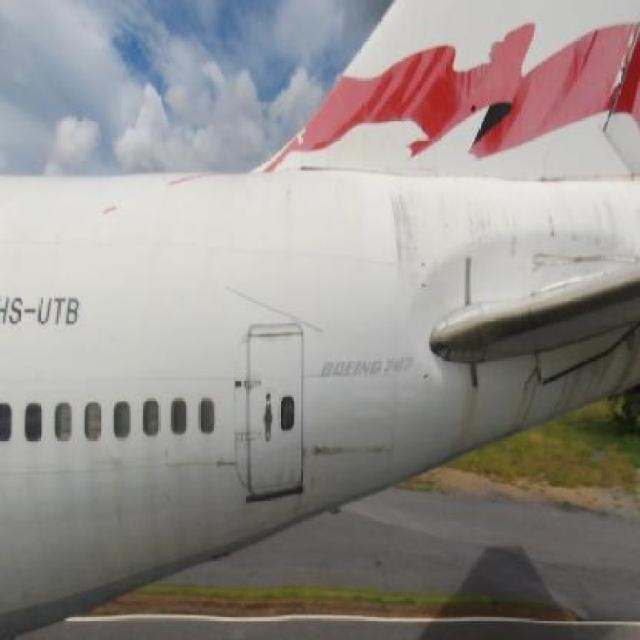Rust: (517, 332, 638, 433), (439, 179, 533, 256), (385, 172, 437, 300), (542, 184, 636, 250), (444, 359, 496, 450), (252, 322, 312, 361), (198, 443, 245, 486), (308, 426, 350, 474), (361, 429, 388, 458), (284, 177, 298, 212)
